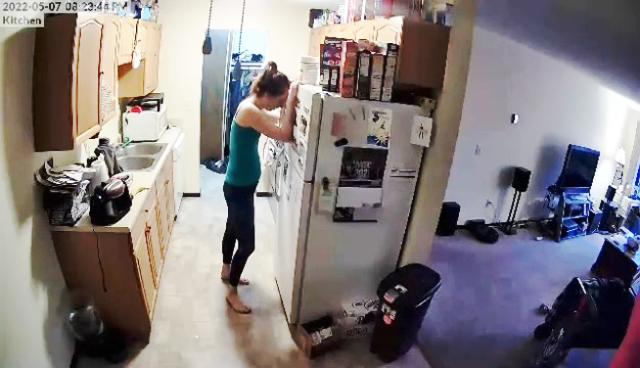berdiri: (220, 65, 296, 312)
